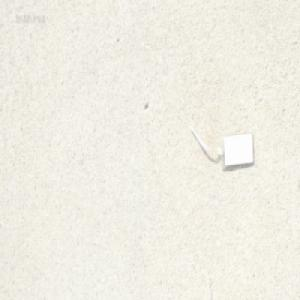LuggageTag: (183, 125, 253, 170)
